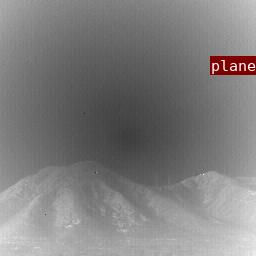plane: (210, 56, 226, 74)
